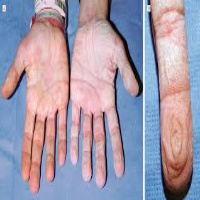ring: (81, 111, 95, 184), (45, 115, 58, 185)
